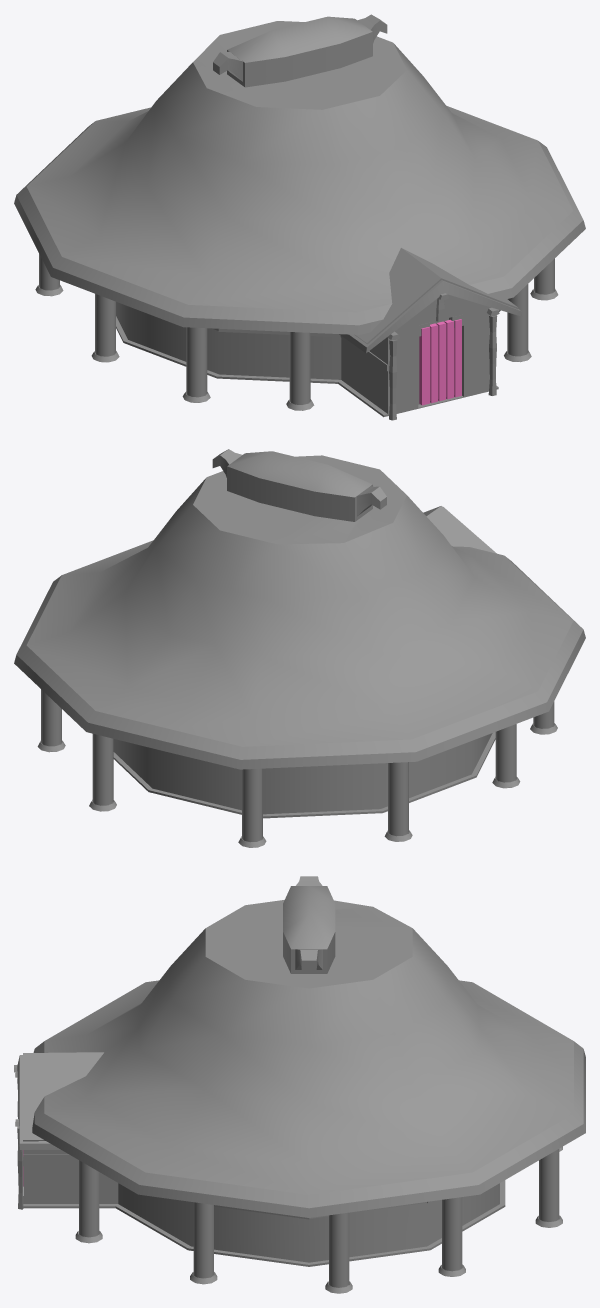
File: hutt.fbx
The picture shows the model from 3 angles, top to bottom: view 1: azimuth 30°, elevation 25°; view 2: azimuth 150°, elevation 25°; view 3: azimuth 270°, elevation 25°; orthographic projection.
Visible parts, largest first — view 1: Jotunheim_House004, Box022; view 2: Jotunheim_House004; view 3: Jotunheim_House004.
Part boxes in pixels (left/top/right/bottom): Jotunheim_House004: left=14, top=14, right=585, bottom=420; Box022: left=419, top=319, right=461, bottom=405; Jotunheim_House004: left=14, top=449, right=585, bottom=847; Jotunheim_House004: left=14, top=876, right=585, bottom=1293.
Size of the model in its own units: 21.82 by 11.73 by 21.44.
